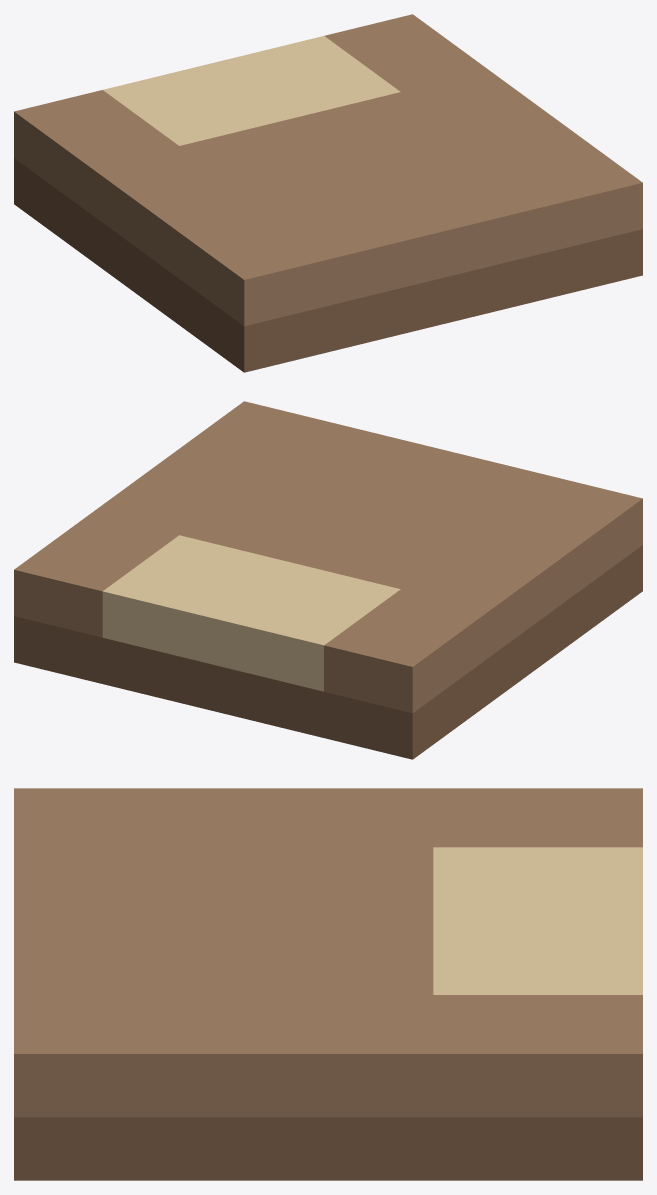
File: city.lod2.glb
3 renders of one model, top to bottom at view 1: azimuth 30°, elevation 25°; view 2: azimuth 150°, elevation 25°; view 3: azimuth 270°, elevation 25°, orthographic. The views are drawn at different scales.
Visible parts, largest first — view 1: VX_city_LOD2; view 2: VX_city_LOD2; view 3: VX_city_LOD2.
Boxes of the visible parts, <box> form: VX_city_LOD2: <box>14,14,642,372</box>; VX_city_LOD2: <box>14,401,642,759</box>; VX_city_LOD2: <box>14,788,642,1180</box>.
Size of the model in its own units: 5.94 by 1.32 by 5.94.
